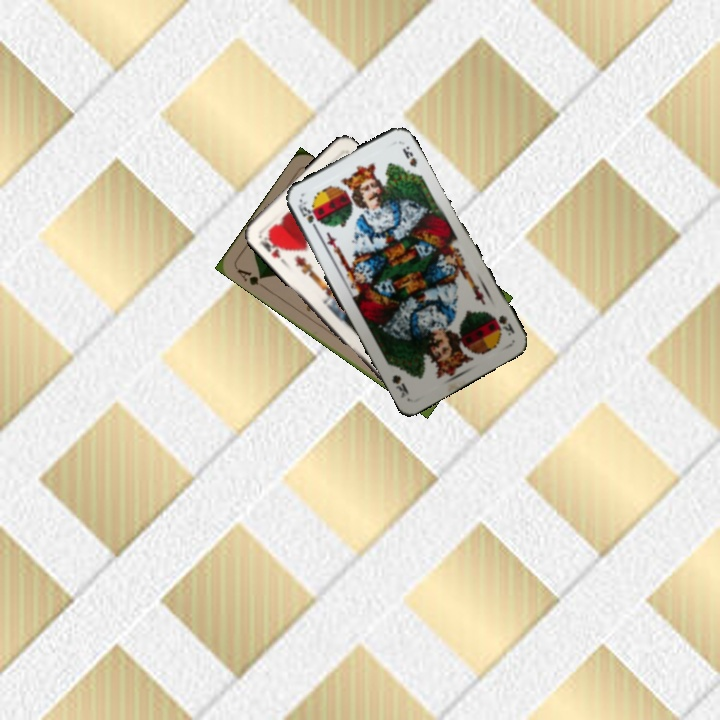GA: (233, 265, 269, 291)
HK: (256, 230, 285, 261)
SK: (294, 197, 321, 235), (489, 311, 517, 338)
